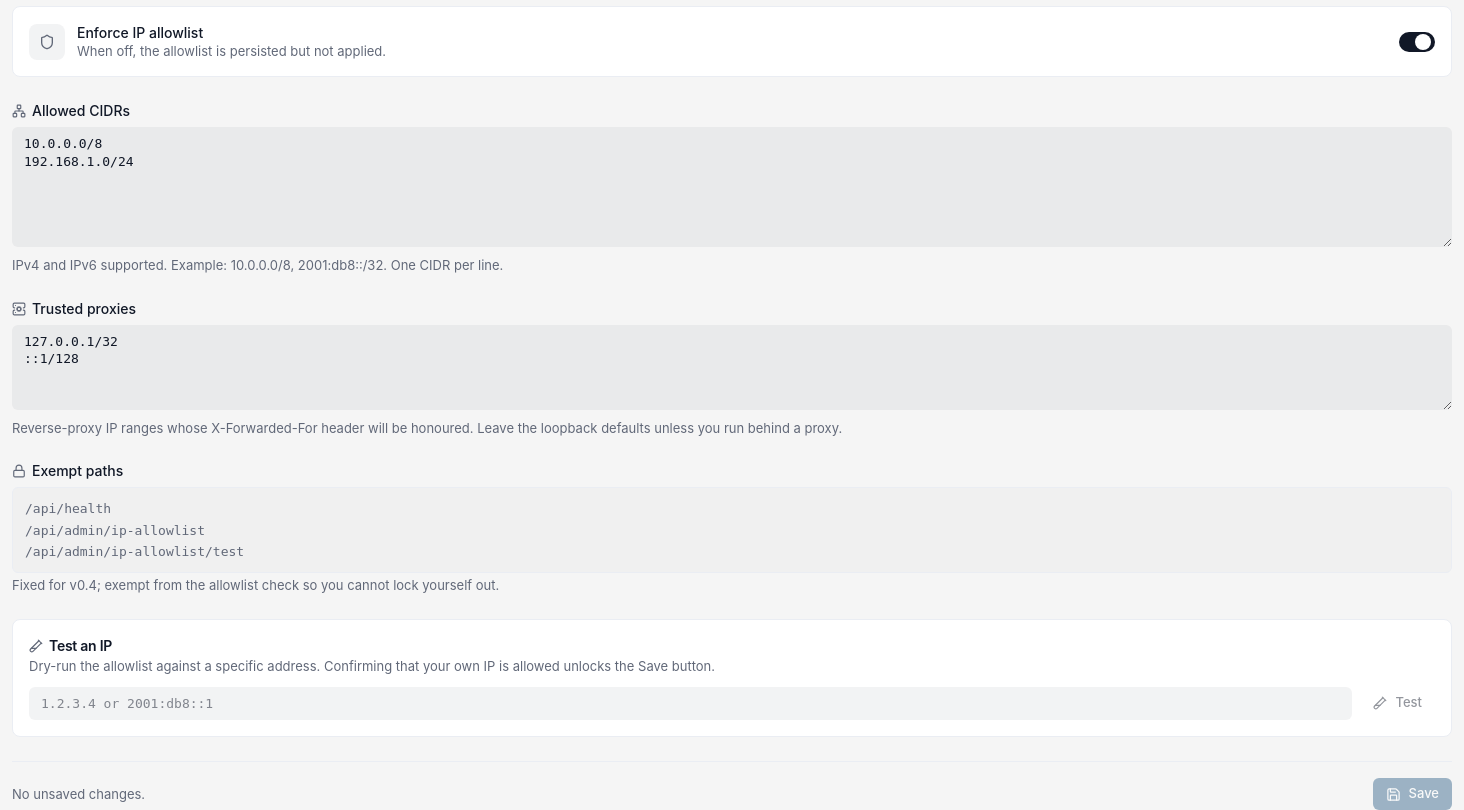
Scenario: IpAllowlistTab › sends the pending config to /test and keeps save locked when the edited config blocks the IP (#871)
(page scrolled)
// Admin edits the CIDR list to a range that no longer includes their IP.
Replace the text in the text box with test id "ip-allowlist-cidrs" with "192.168.0.0/16". click: (732,187)
box: [12, 127, 1452, 247]
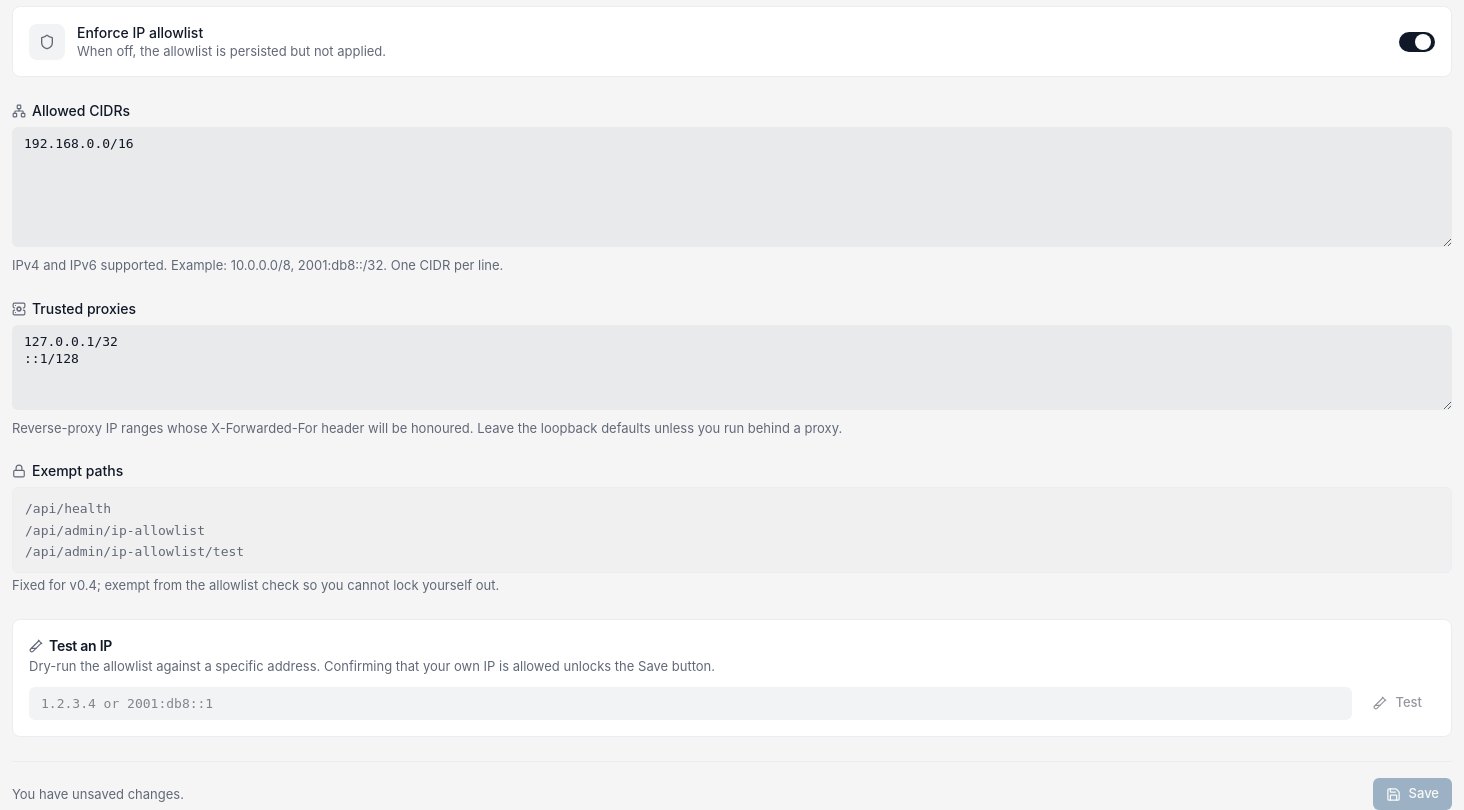
Type "10.1.2.3" into the field with test id "ip-allowlist-test-ip". click: (691,704)
box: [29, 687, 1352, 720]
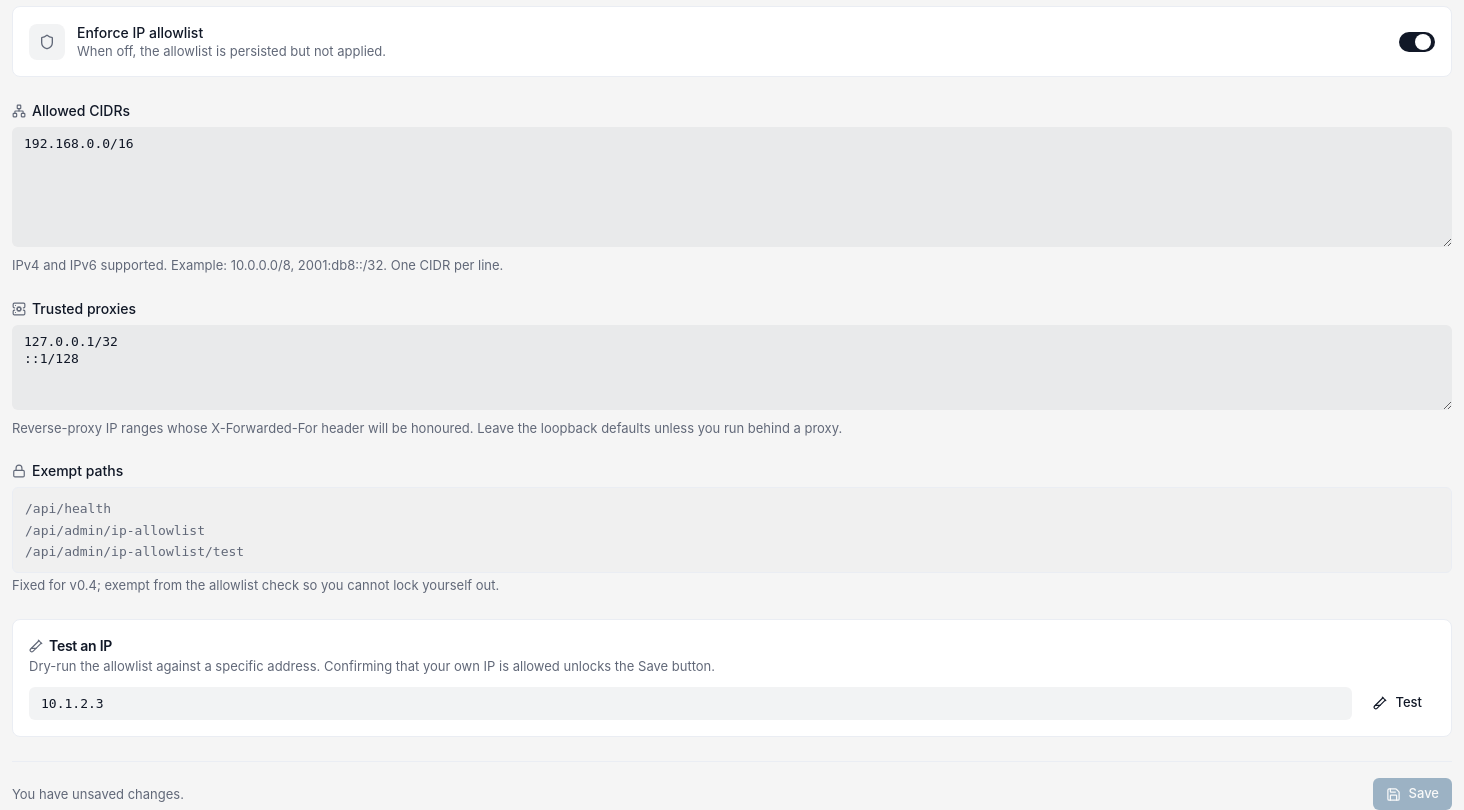
Click the button with test id "ip-allowlist-test-btn". click: (1398,703)
box: [1360, 687, 1435, 719]
(page scrolled)
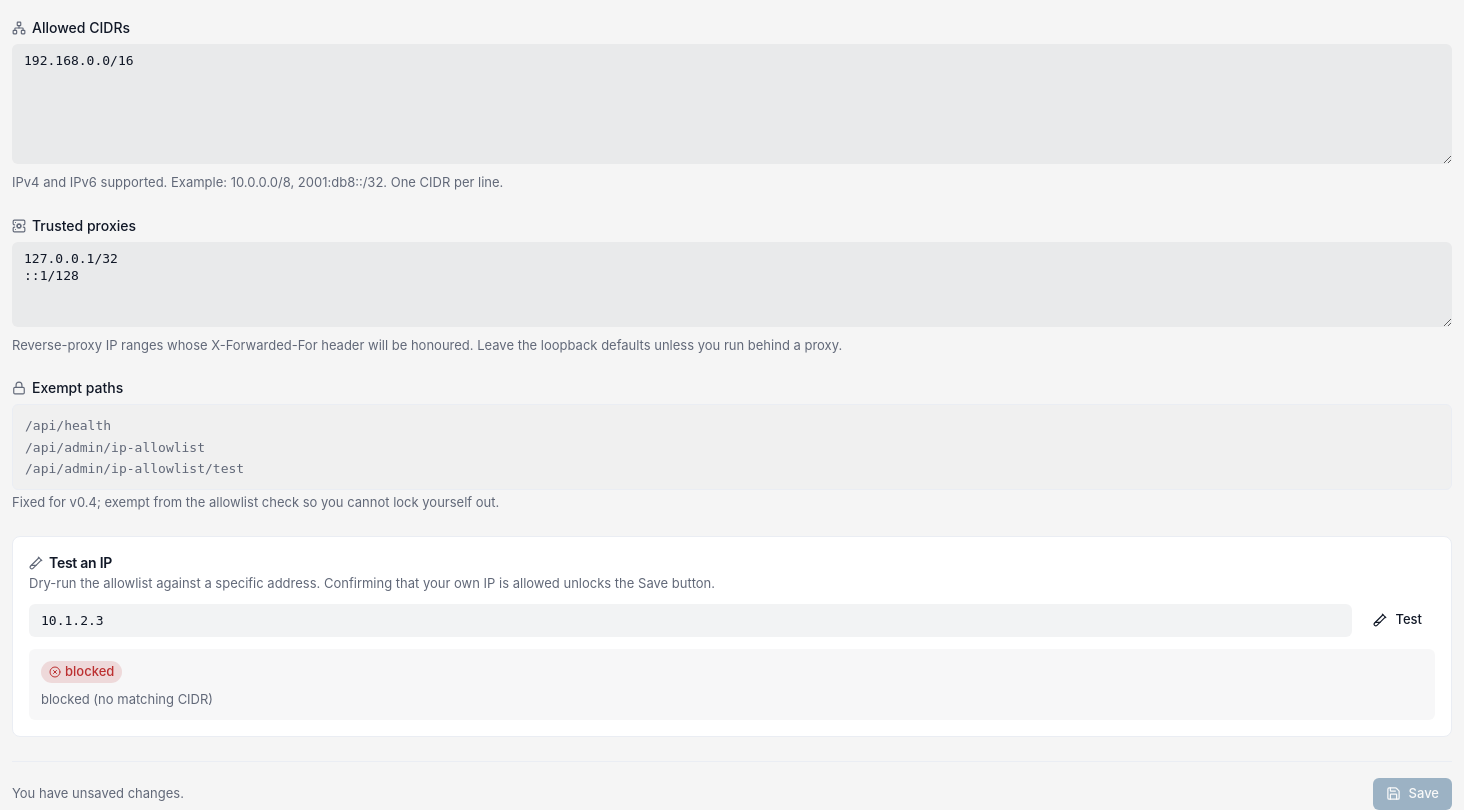
Expected: the button with test id "ip-allowlist-save-btn" is disabled, [1373, 778, 1452, 809]
Expected: the element with test id "ip-allowlist-test-outcome" reads "blocked", [65, 663, 114, 679]
